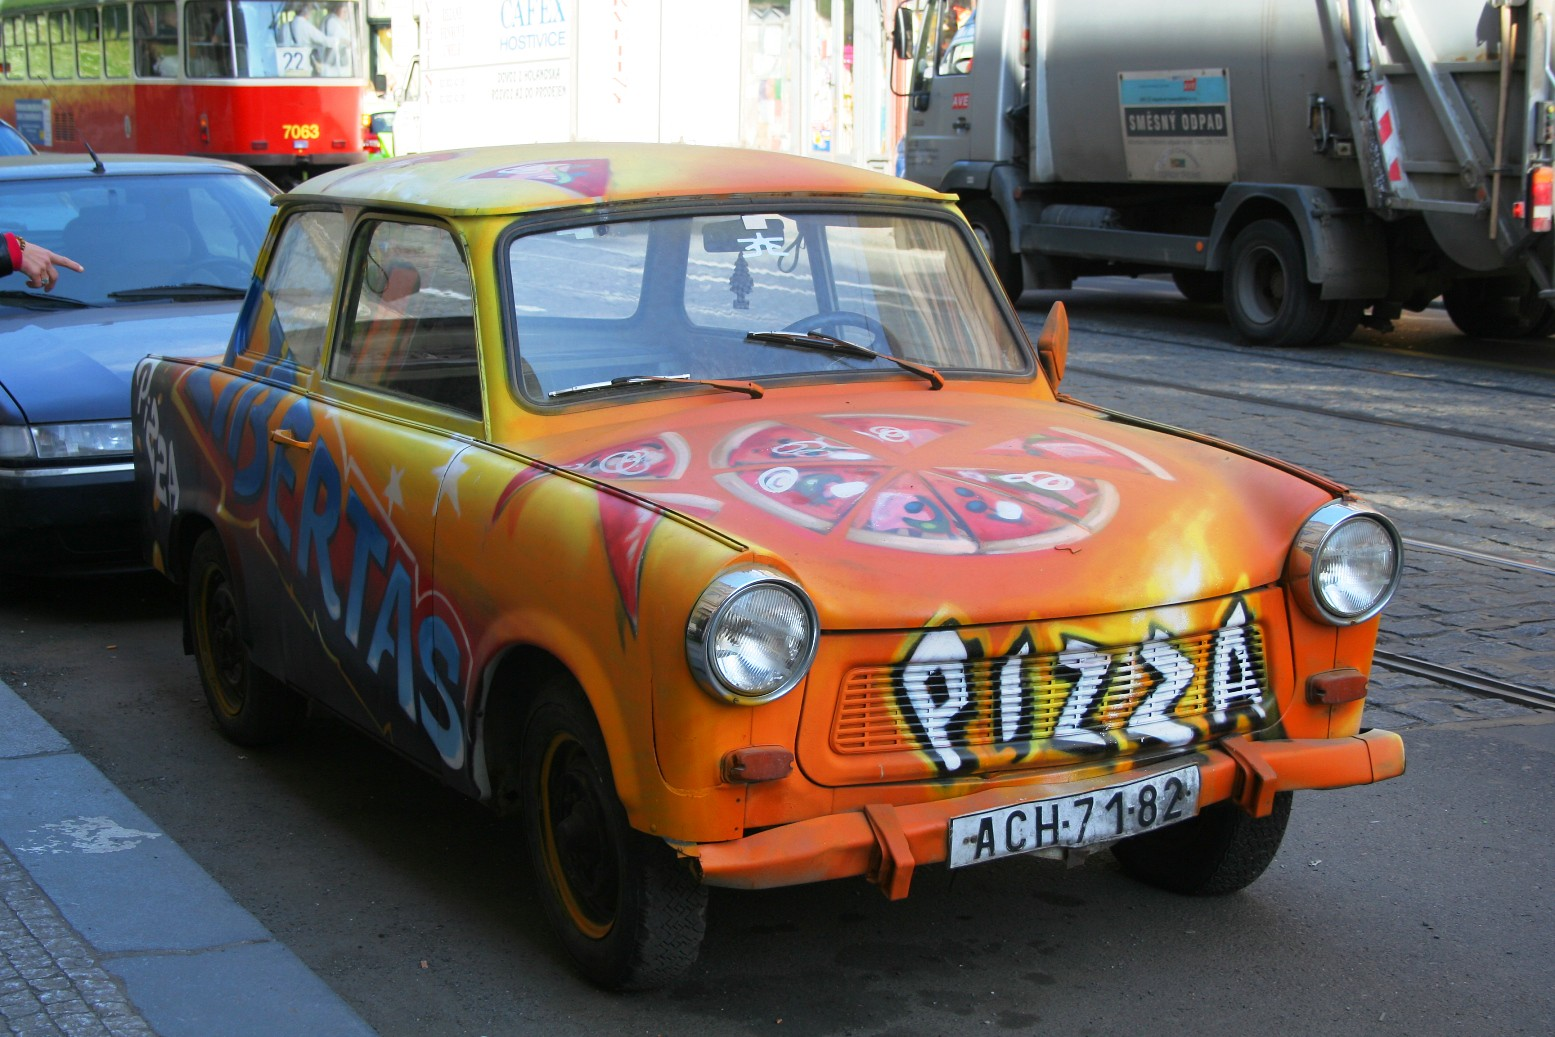car: (167, 183, 1372, 931)
